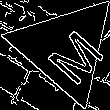M_NW: (30, 14, 100, 82)
